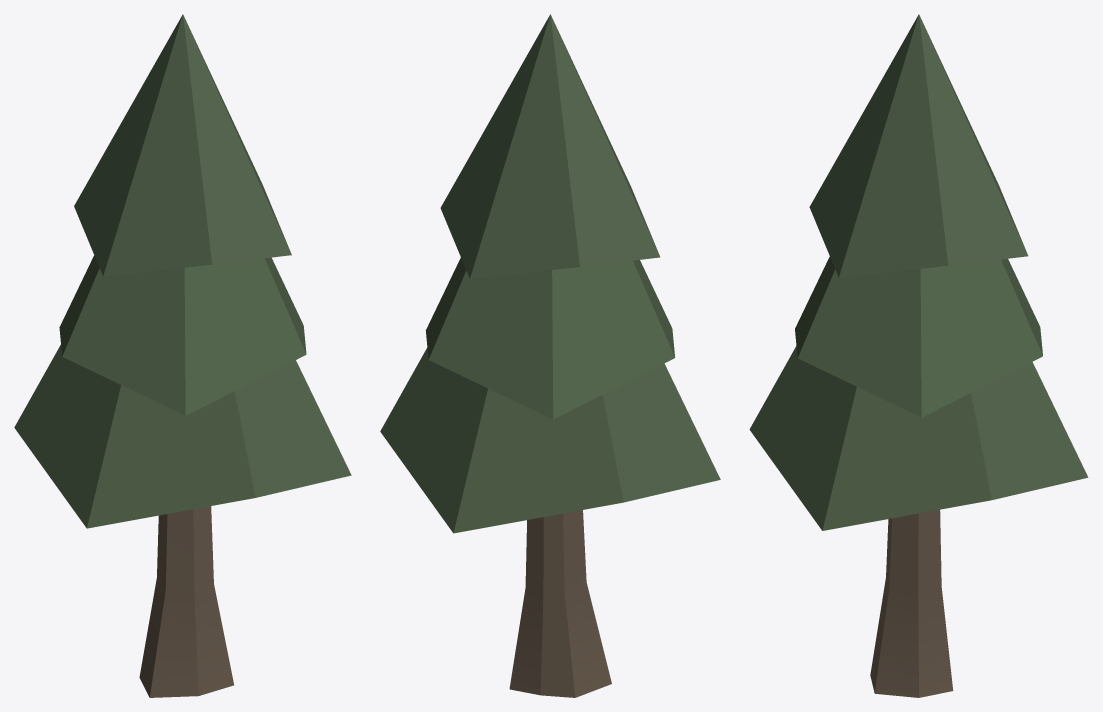
The model's file is PineTreeMedium_Mesh.fbx.
3 views of the same model, side by side, from view 1: azimuth 30°, elevation 25°; view 2: azimuth 150°, elevation 25°; view 3: azimuth 270°, elevation 25° (orthographic).
Visible parts, largest first — view 1: PineTreeMedium_Mesh; view 2: PineTreeMedium_Mesh; view 3: PineTreeMedium_Mesh.
Boxes of the visible parts, left/top/right/bottom form: PineTreeMedium_Mesh: left=14, top=14, right=351, bottom=697; PineTreeMedium_Mesh: left=380, top=14, right=720, bottom=697; PineTreeMedium_Mesh: left=749, top=14, right=1088, bottom=697.
Bounding box in the file's own units: 271 × 648 × 299.
